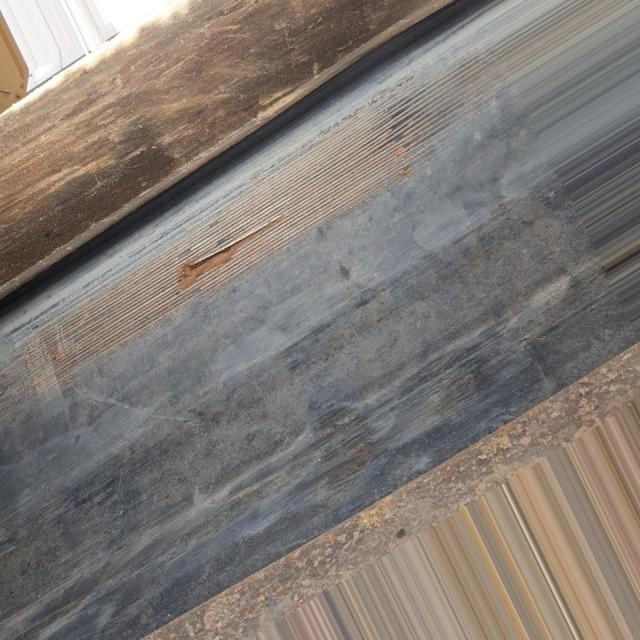impact damage: (25, 88, 427, 398)
